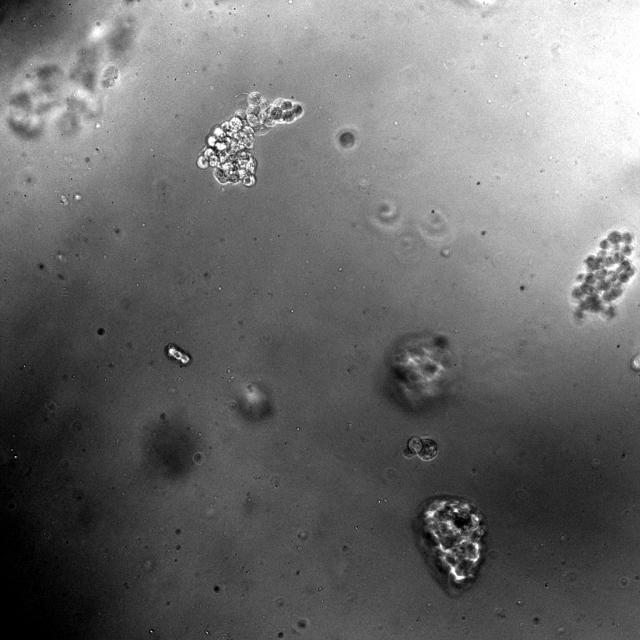organoid: (2, 7, 138, 140), (198, 91, 302, 187), (414, 495, 486, 595), (571, 230, 635, 319), (385, 331, 455, 411), (402, 436, 438, 461), (164, 343, 191, 367), (339, 131, 355, 148)
